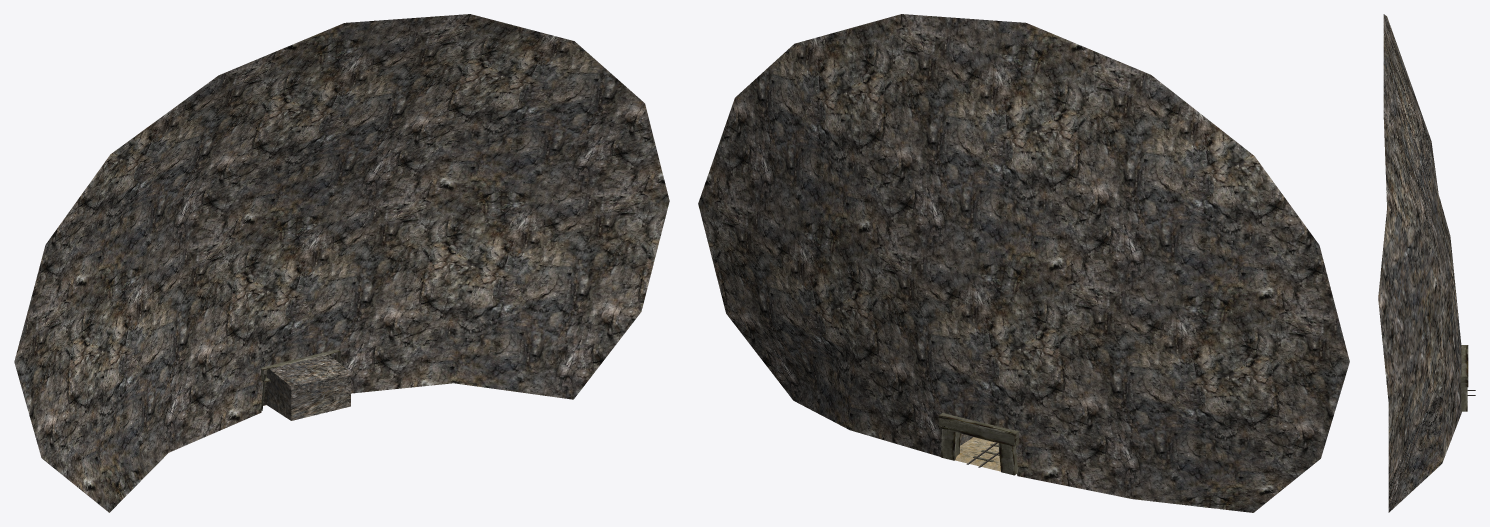
The model's file is pir_m_prp_mng_doorfacade.fbx.
3 renders of one model, left to right at view 1: azimuth 30°, elevation 25°; view 2: azimuth 150°, elevation 25°; view 3: azimuth 270°, elevation 25°, orthographic. The views are drawn at different scales.
Visible parts, largest first — view 1: rockwall, interior_hallway; view 2: rockwall, cave_mine_supports:minesupport_1, interior_hallway; view 3: rockwall, cave_mine_supports:minesupport_1, cave_mine_supports:minesupport_4.
Boxes of the visible parts, x1,y1,x2,y2 form: rockwall: (14, 14, 669, 512); interior_hallway: (263, 354, 350, 420); rockwall: (698, 14, 1349, 512); cave_mine_supports:minesupport_1: (938, 412, 1019, 446); interior_hallway: (955, 433, 1000, 471); rockwall: (1378, 14, 1461, 512); cave_mine_supports:minesupport_1: (1460, 345, 1468, 387); cave_mine_supports:minesupport_4: (1461, 387, 1467, 411).
Size of the model in its own units: 12796 by 8114 by 1944.
Materials: 3 (3 with a texture image).
